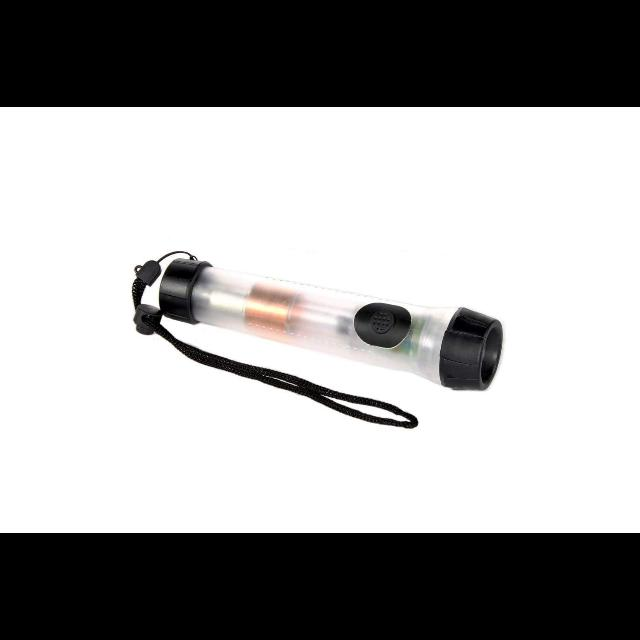Flashlight: (124, 245, 508, 435)
